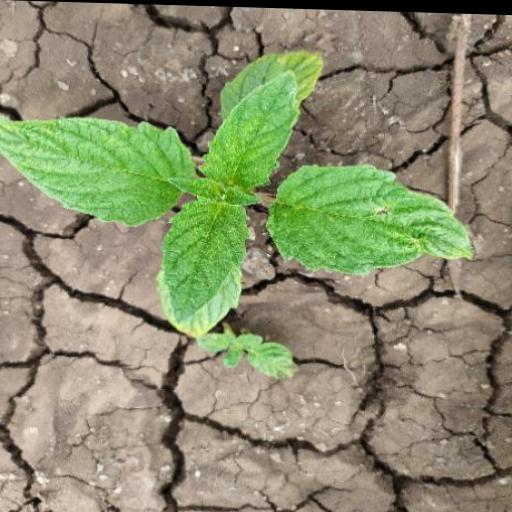crop: (0, 35, 478, 343)
